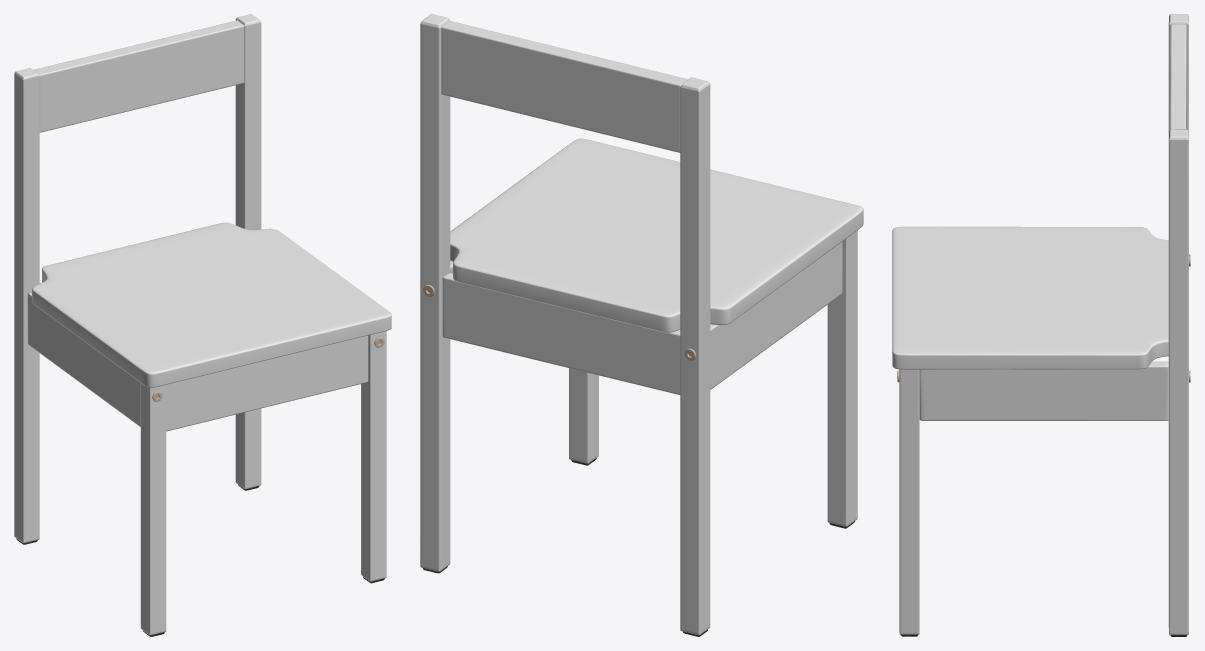
Rendered from abo-B07YBH2SR3.glb.
3 renders of one model, left to right at view 1: azimuth 30°, elevation 25°; view 2: azimuth 150°, elevation 25°; view 3: azimuth 270°, elevation 25°, orthographic. The views are drawn at different scales.
Size of the model in its own units: 0.367 by 0.668 by 0.361.
Materials: 1 (1 with a texture image).
